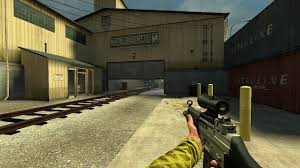gun: (181, 80, 265, 166)
